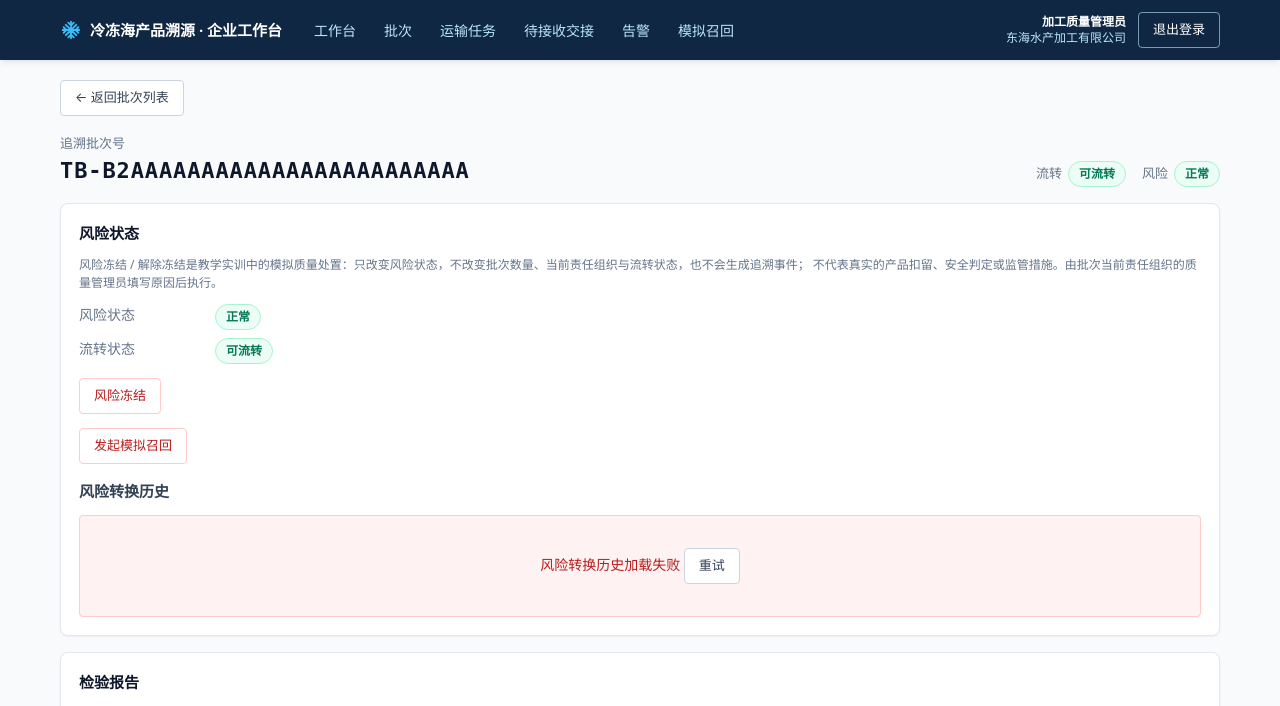
Test: BatchRiskPanel › degrades gracefully when the history is forbidden or fails
expect the element with test id "risk-history-error" is shown: met, box [79,514,1201,616]
Click the button with test id "risk-history-retry": click(712, 566) [684,548,740,584]
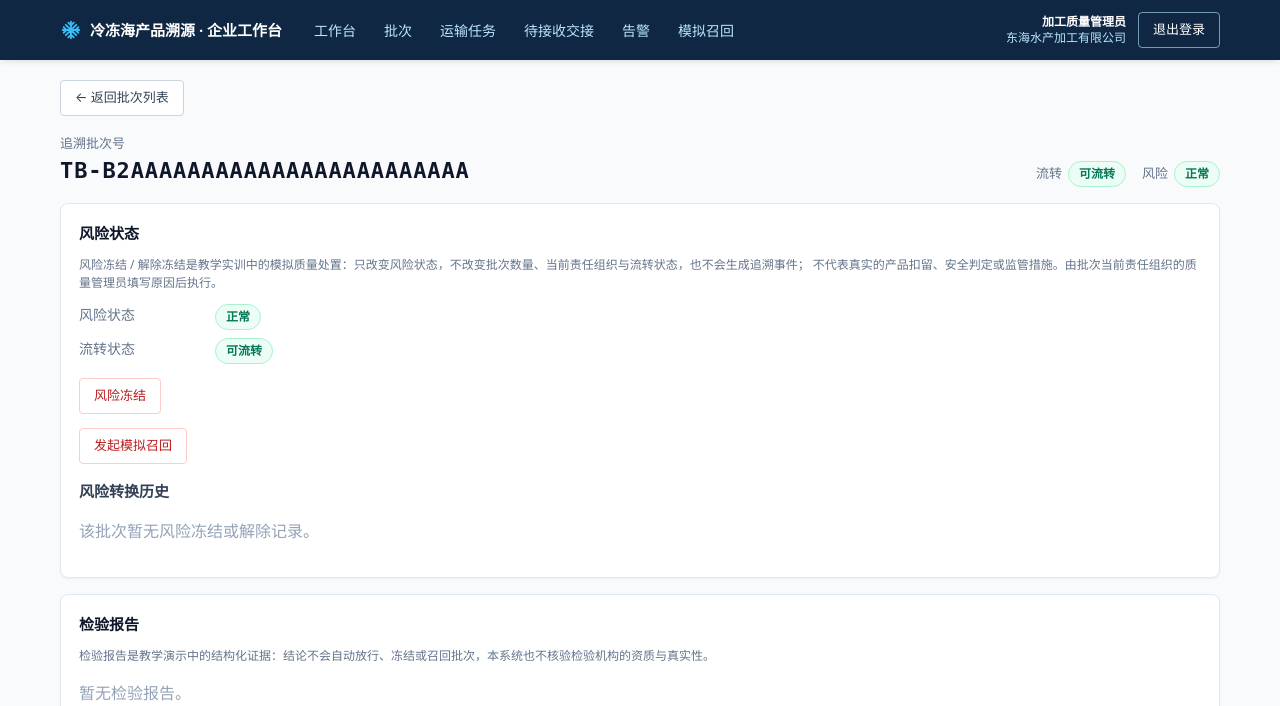
expect the text "该批次暂无风险冻结或解除记录。" is shown: met, box [79,520,319,542]
